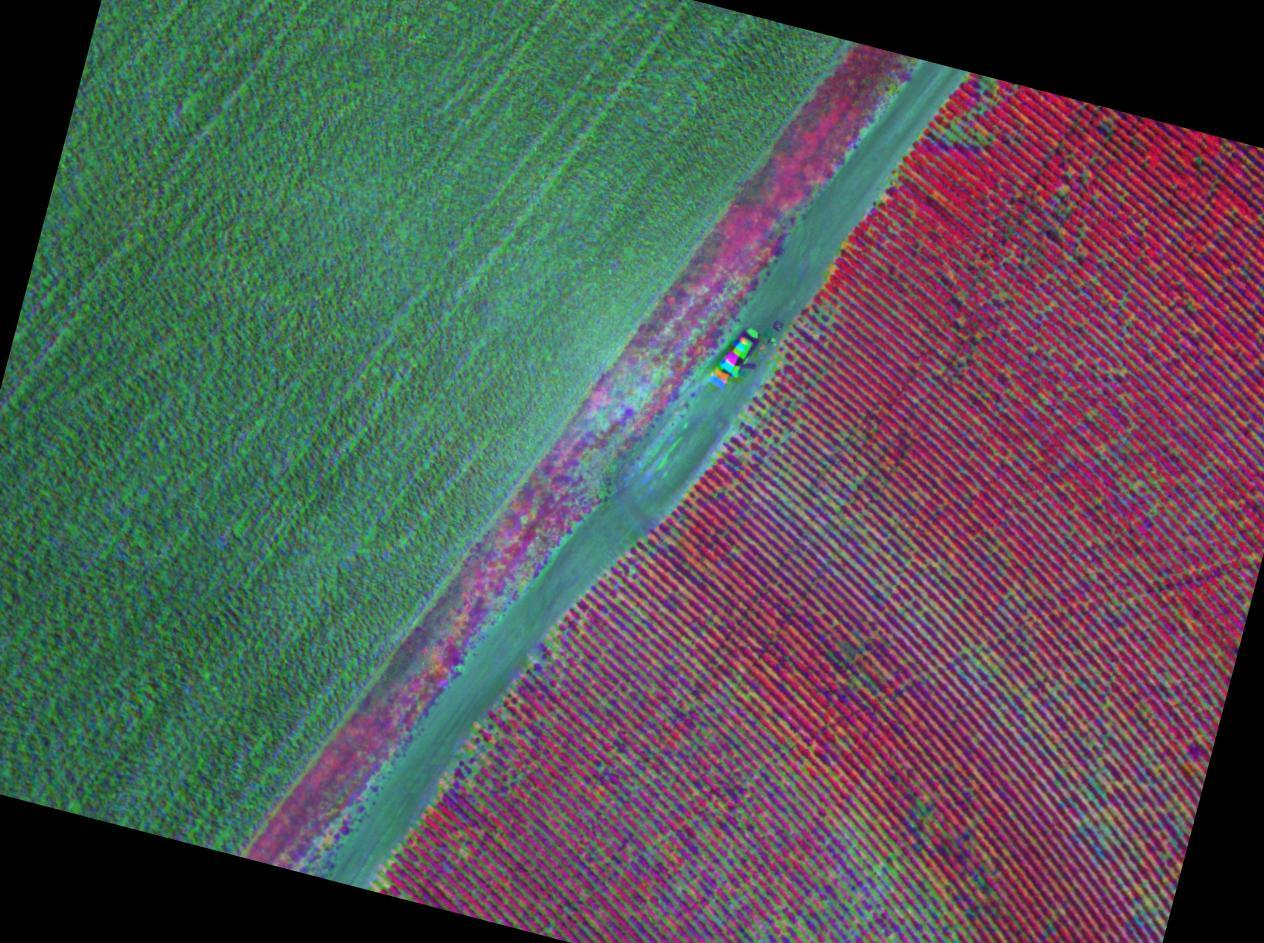dc: (923, 607, 927, 611), (381, 878, 385, 882)
